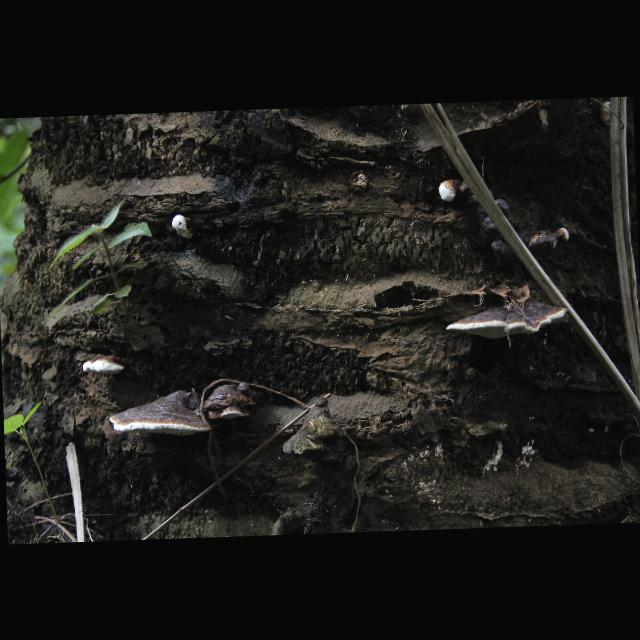ganoderma: (460, 177, 559, 264), (445, 297, 571, 342), (110, 390, 213, 440), (201, 382, 259, 421), (83, 356, 127, 377)
primordium: (172, 215, 195, 241), (438, 180, 459, 203), (556, 228, 570, 244)
